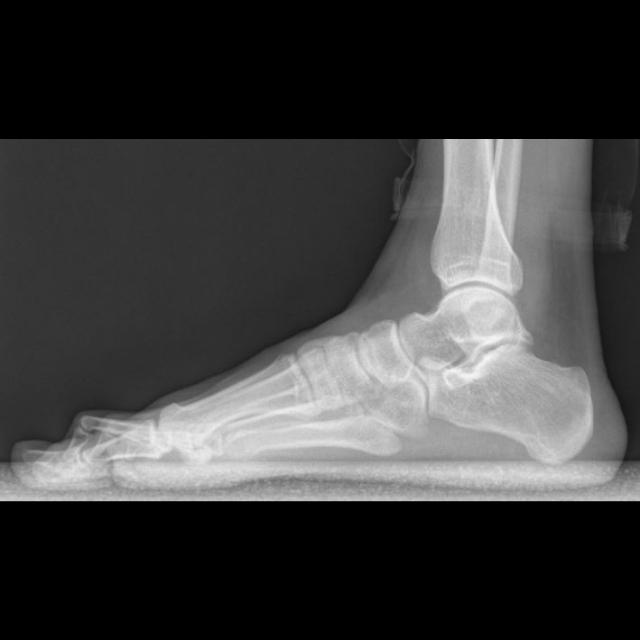a: (428, 344, 592, 463)
b: (358, 319, 414, 386)
c: (156, 354, 319, 461)
